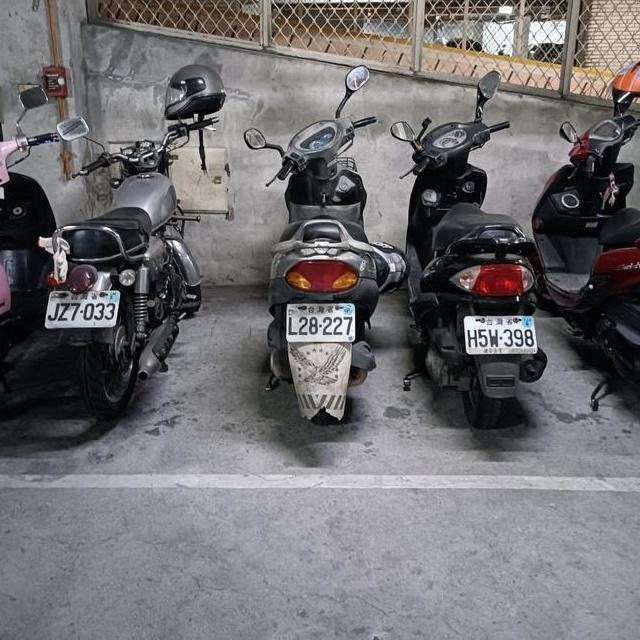W: (459, 305, 539, 360), (41, 282, 123, 334), (281, 295, 358, 346)
